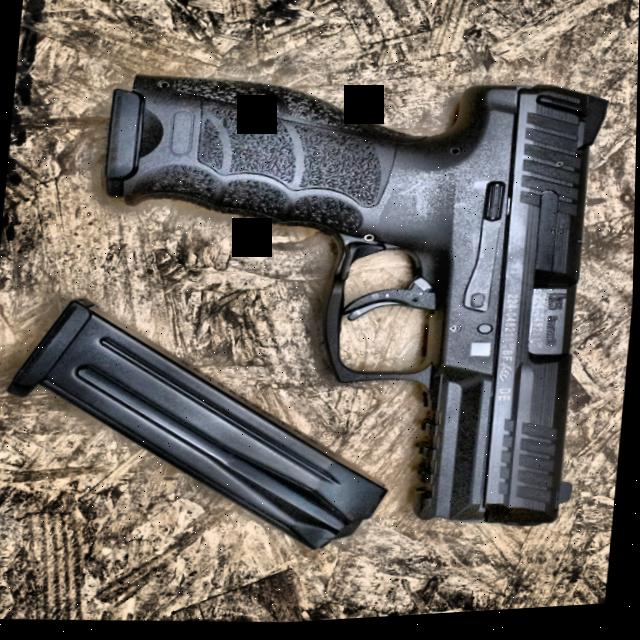HKVP9: (70, 50, 613, 560)
